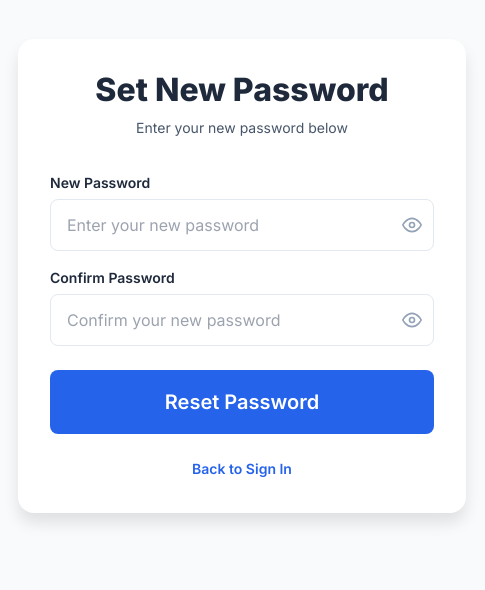
it: ResetPassword › shows success message on successful reset
In the password field labelled "New Password": coordinates (242, 225) [50,199,434,251], type "newpass123"
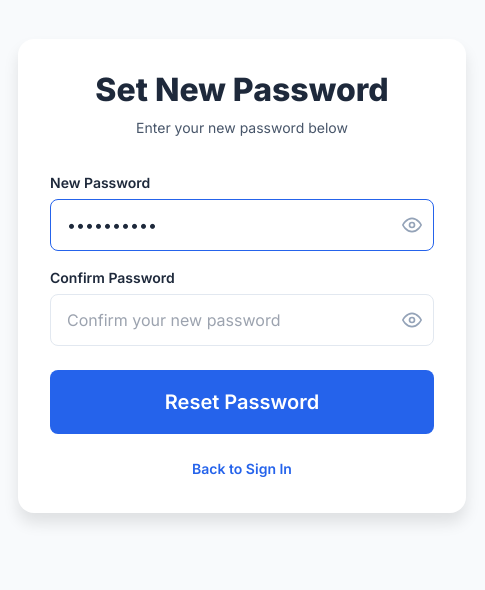
In the password field labelled "Confirm Password": coordinates (242, 320) [50,294,434,346], type "newpass123"
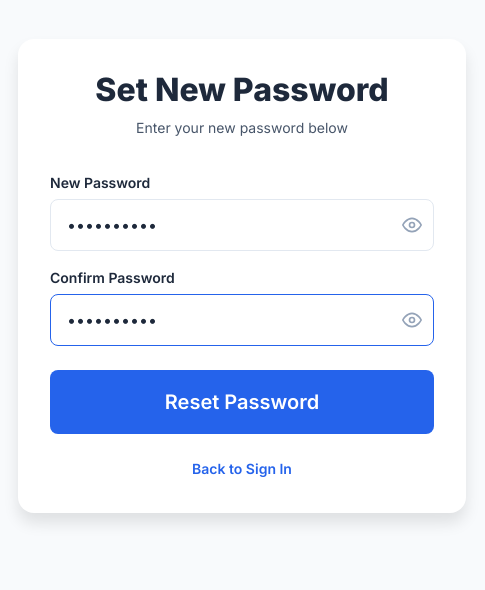
Click the button "Reset Password": coordinates (242, 402) [50,370,434,434]
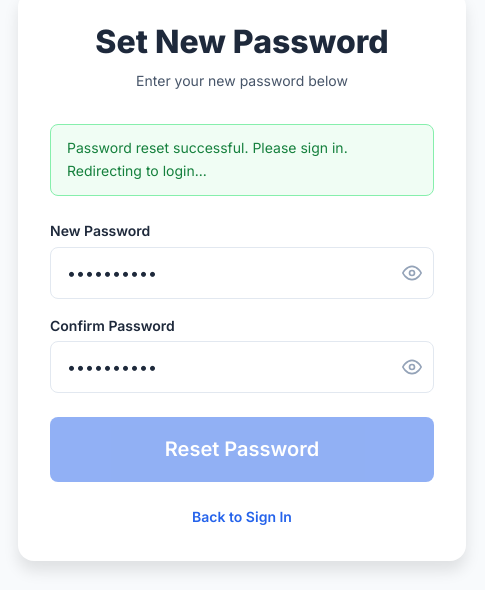
Check: the message shows "Password reset successful", box [67,139,348,156]
